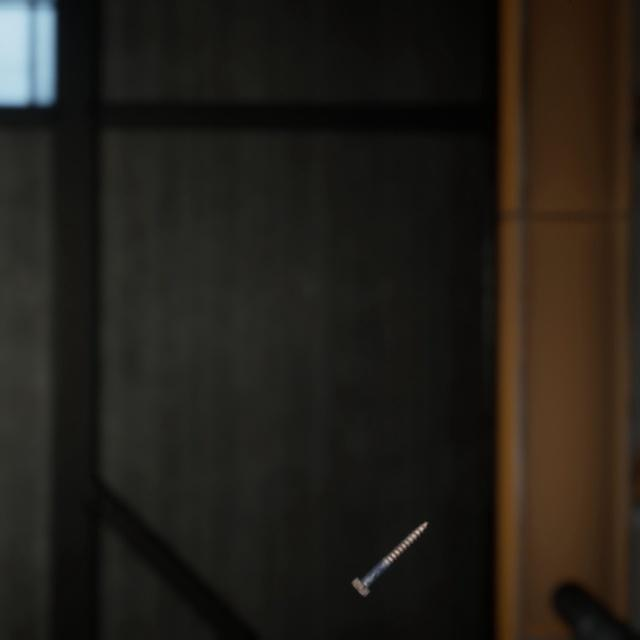bolt: (346, 495, 433, 579)
